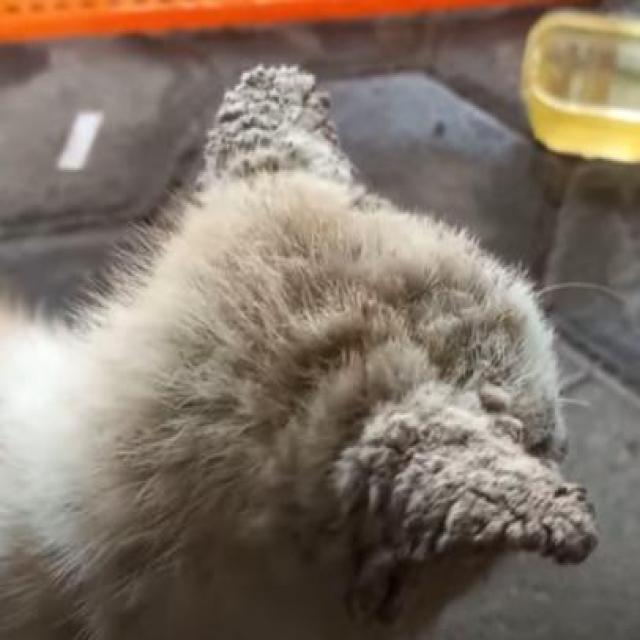ghe: (334, 384, 598, 575), (197, 56, 348, 188)
